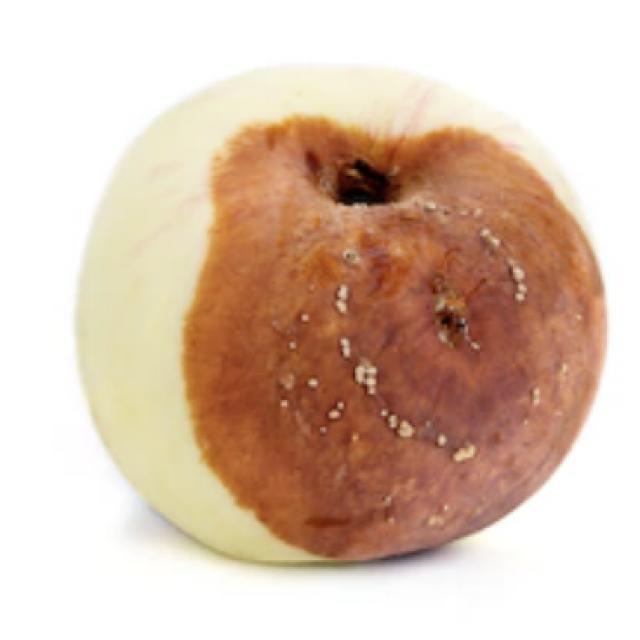Rotten: (66, 58, 612, 565)
